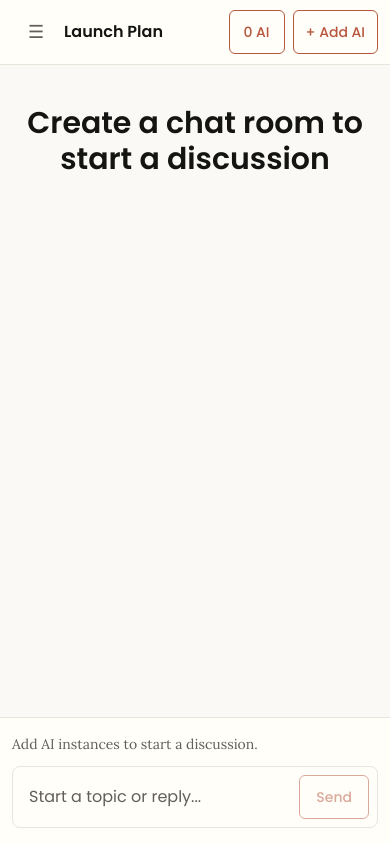
Test case: ChatShell › opens the mobile drawer with chat rooms and new room action
This screenshot has width=390, height=844.
expect the heading "Launch Plan" is shown: met, box [64,20,163,43]
Click the button named "Open chat room navigation". click: (36,32)
box: [12,8,60,56]
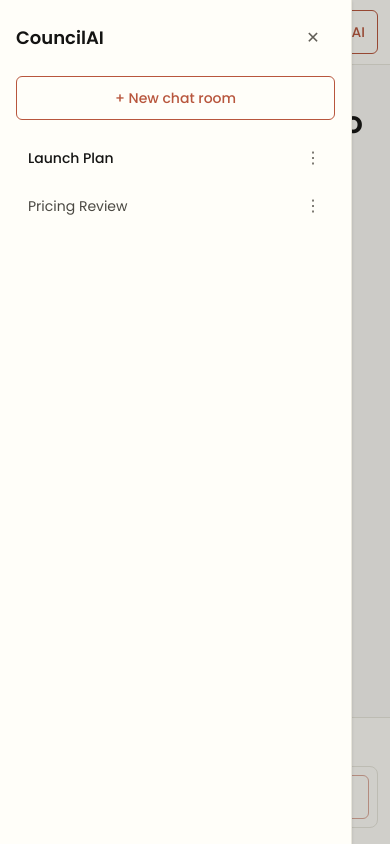
expect the button "+ New chat room" is shown: met, box [16,76,335,120]
expect the text "Launch Plan" is shown: met, box [28,148,114,168]
expect the text "Pricing Review" is shown: met, box [28,196,128,216]
